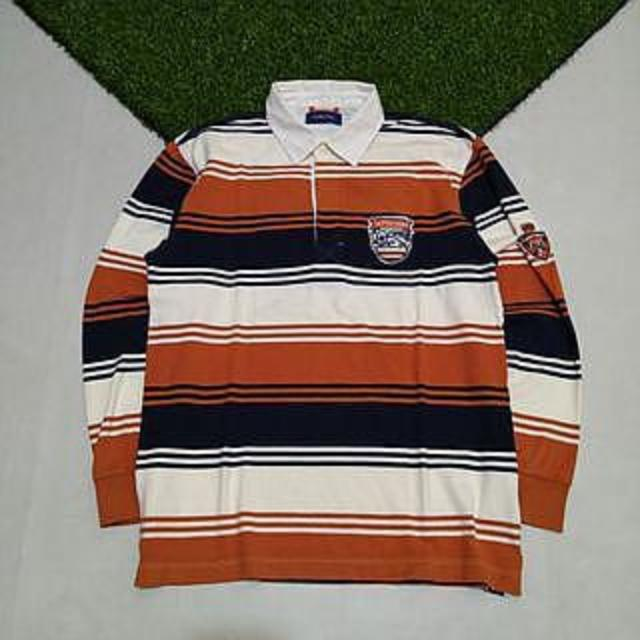SHIRT: (68, 70, 598, 602)
